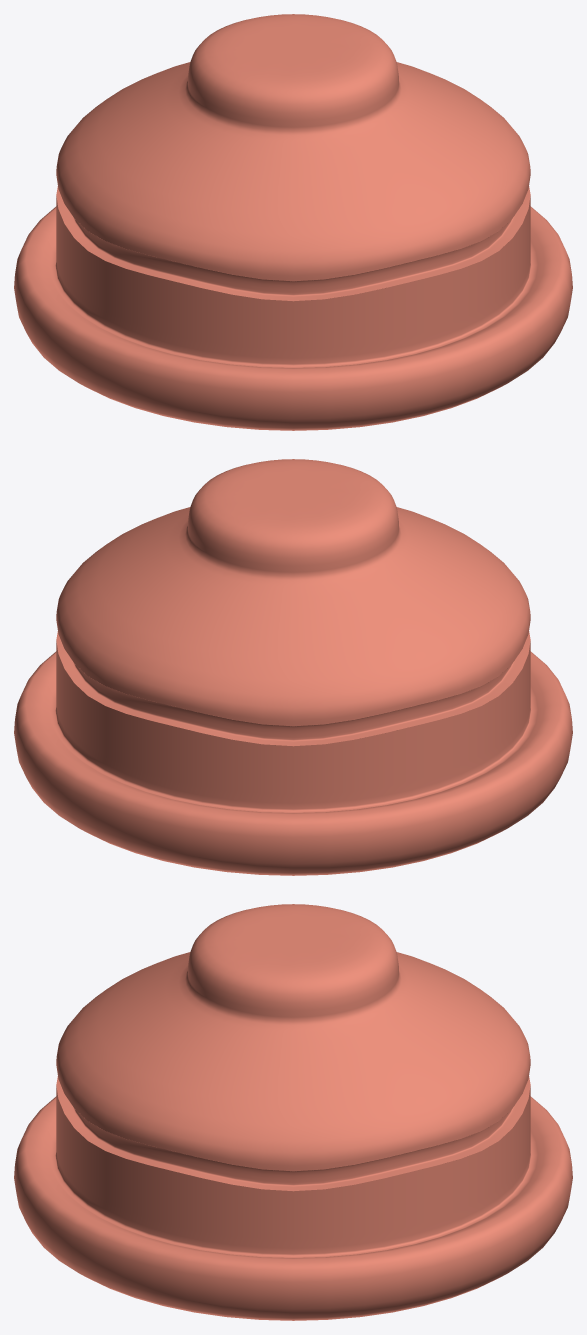
Rendered from Suckers2.fbx.
The picture shows the model from 3 angles, top to bottom: view 1: azimuth 30°, elevation 25°; view 2: azimuth 150°, elevation 25°; view 3: azimuth 270°, elevation 25°; orthographic projection.
Parts seen in each view (by area): view 1: Cylinder.002; view 2: Cylinder.002; view 3: Cylinder.002.
Boxes of the visible parts, x1,y1,x2,y2 form: Cylinder.002: (14, 14, 572, 430); Cylinder.002: (14, 459, 572, 875); Cylinder.002: (14, 904, 572, 1320).
Size of the model in its own units: 189 by 102 by 189.
